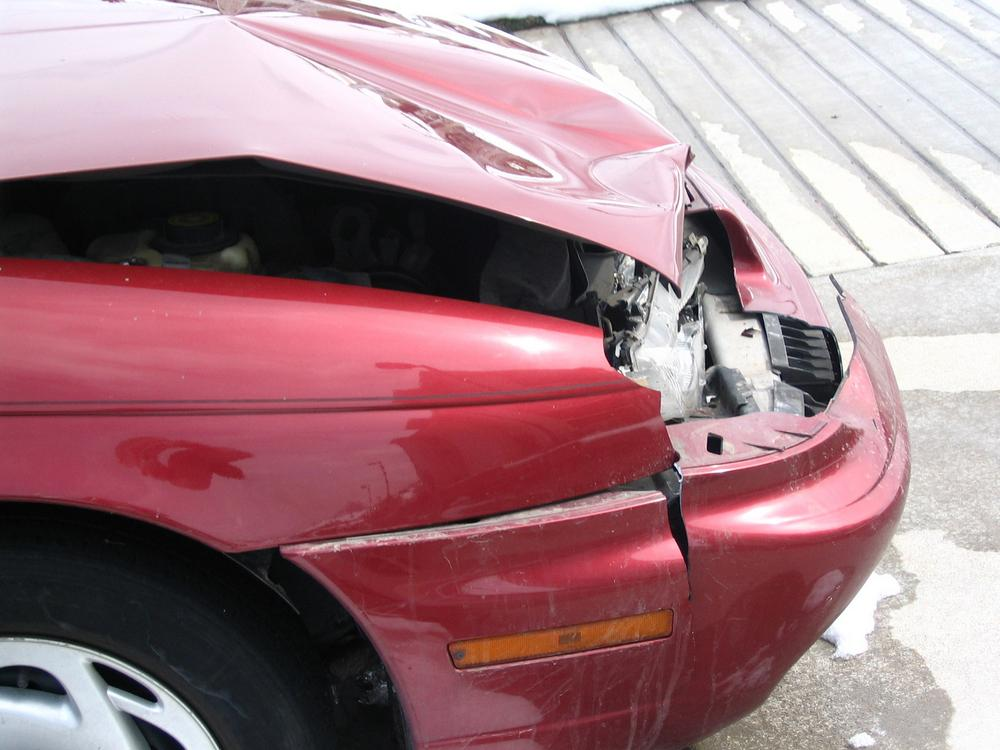crack: (660, 476, 692, 610)
dent: (232, 20, 677, 211)
lamp broken: (604, 218, 773, 421)
